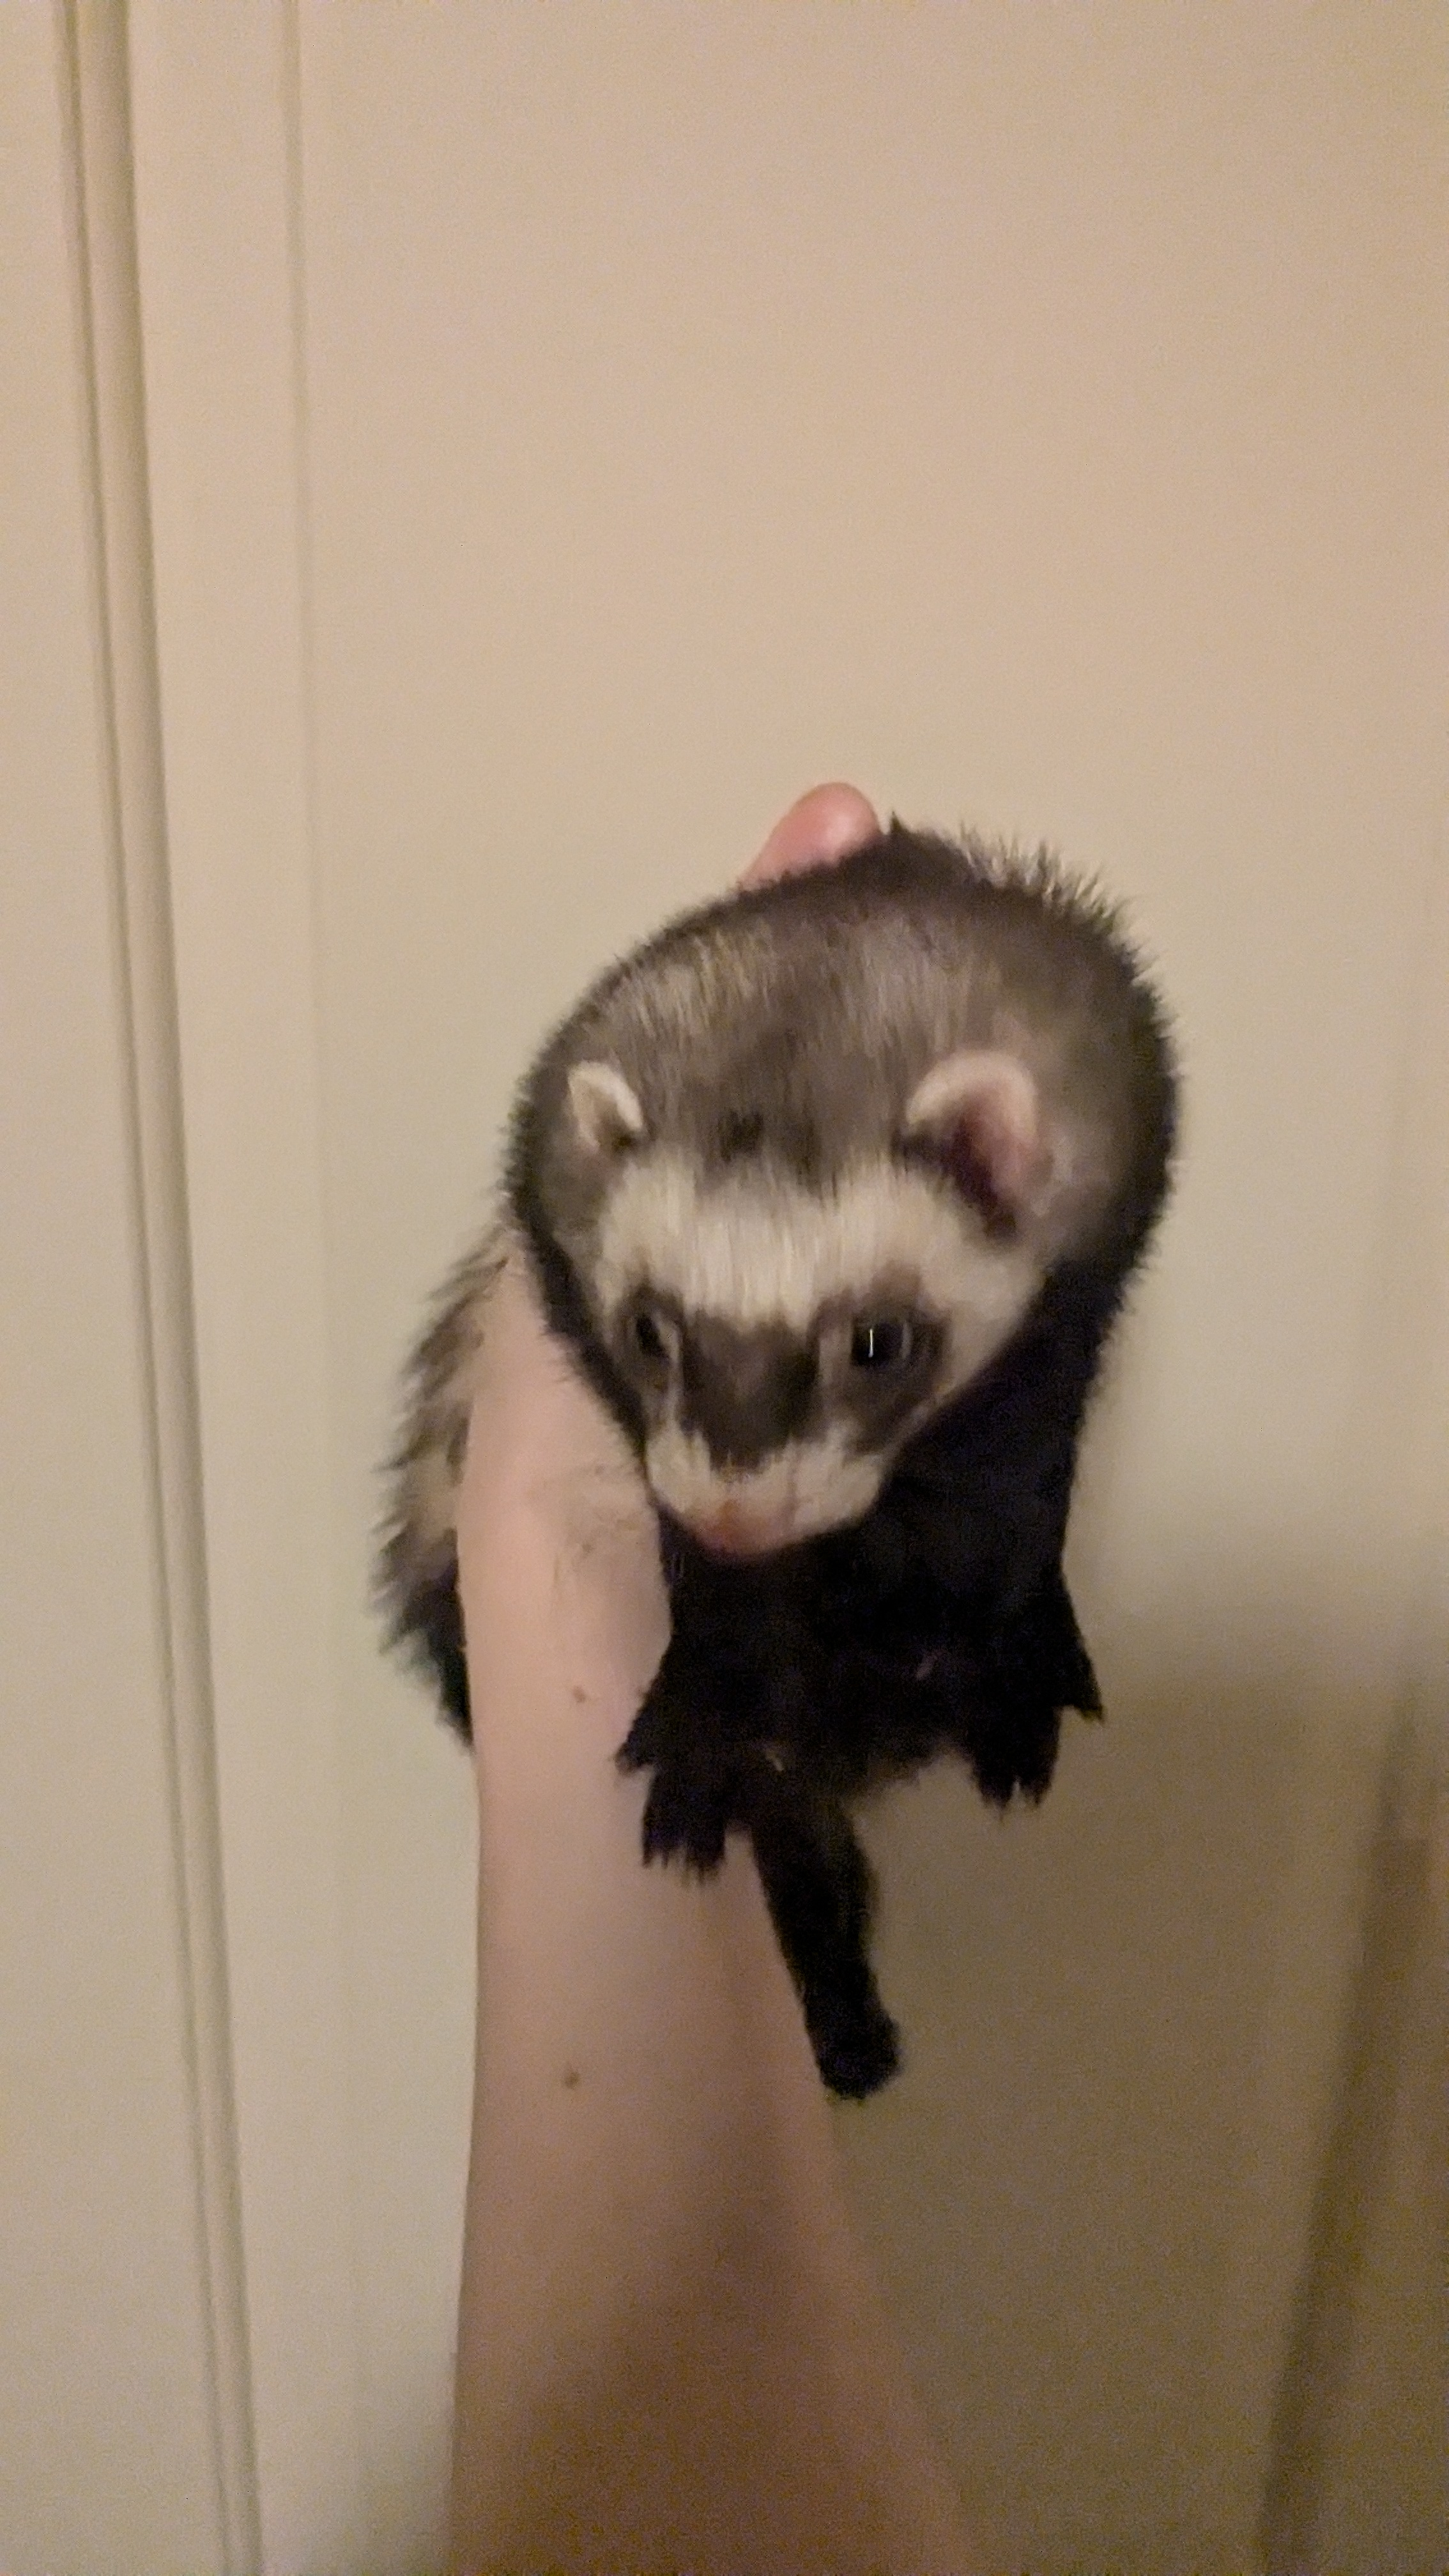Talulah: (304, 773, 1230, 2143)
